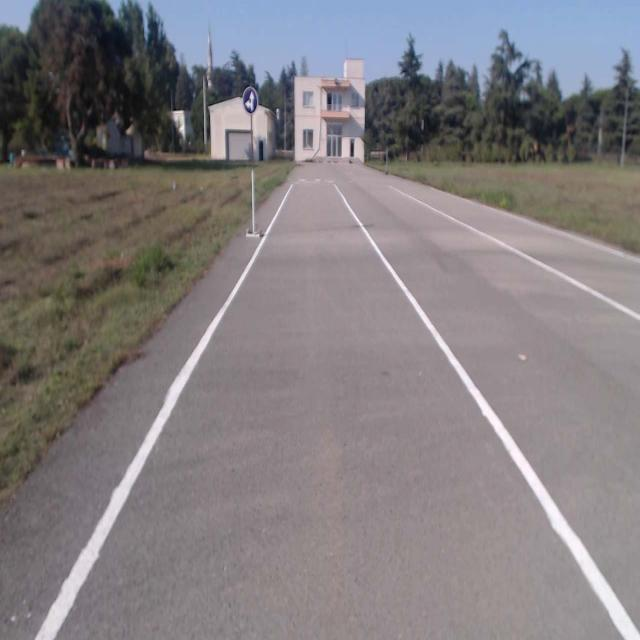ilerisol: (243, 87, 257, 111)
